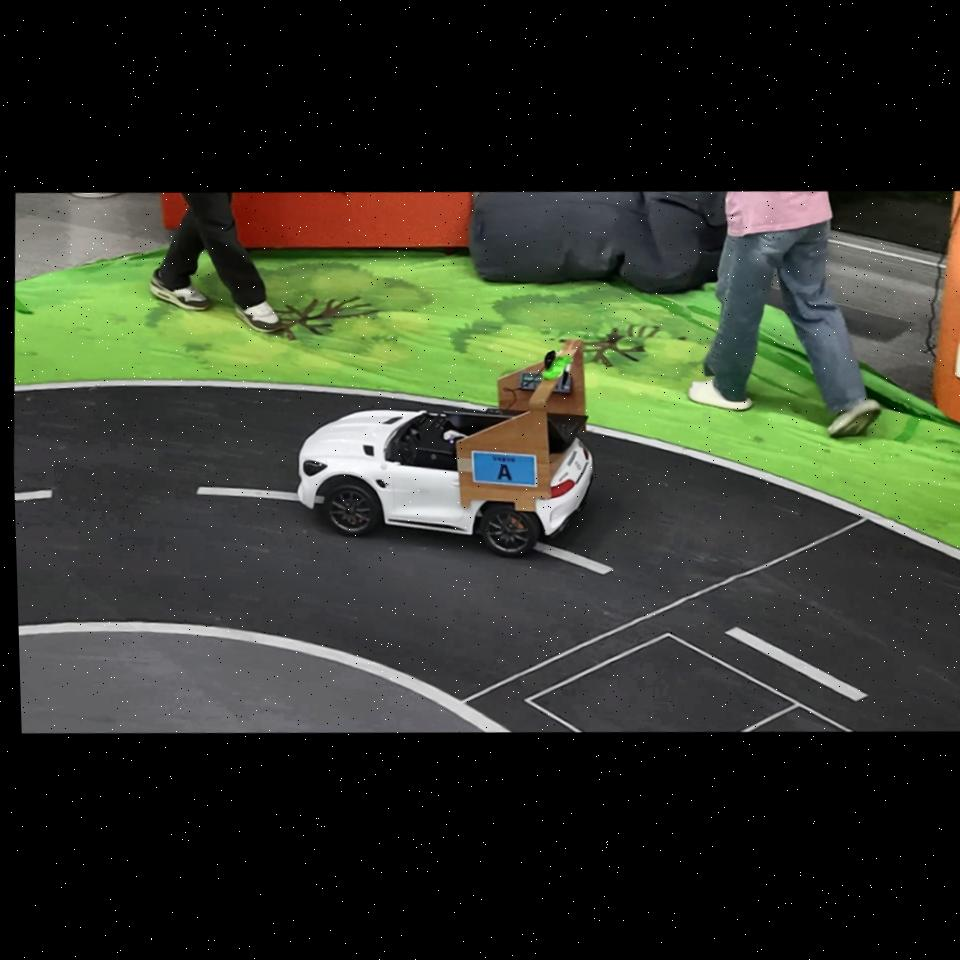broken_line: (726, 627, 867, 701), (534, 543, 612, 574), (196, 486, 299, 501), (15, 490, 52, 501), (315, 496, 323, 503)
